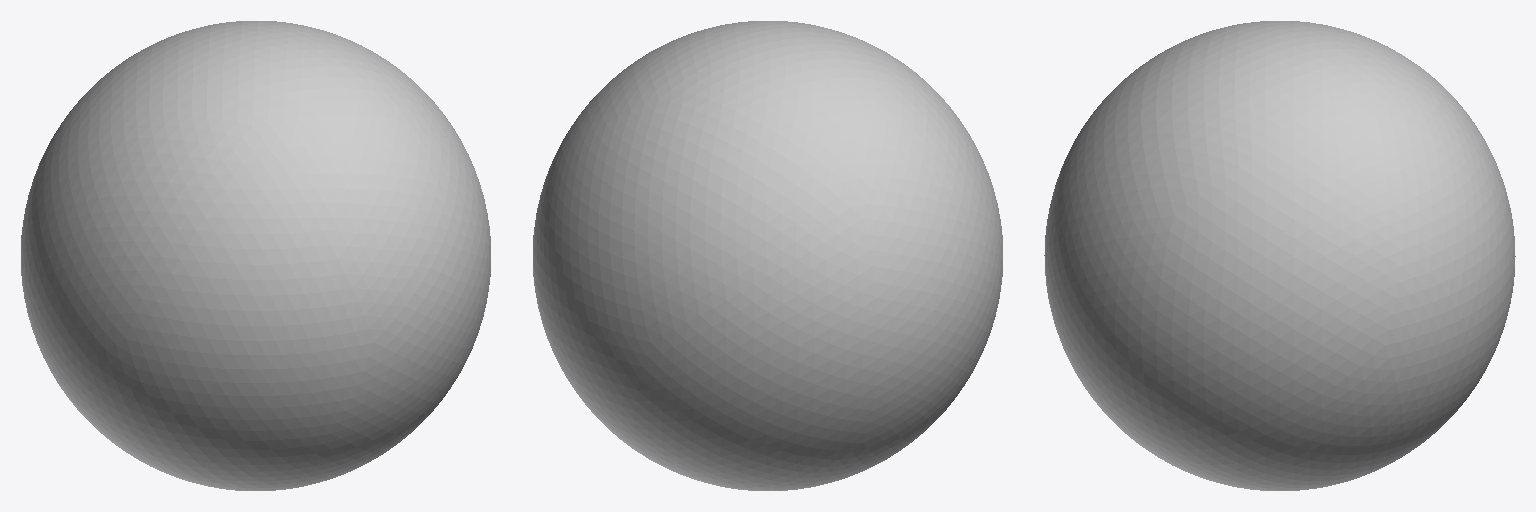
Rendered from bola.obj.
3 views of the same model, side by side, from view 1: azimuth 30°, elevation 25°; view 2: azimuth 150°, elevation 25°; view 3: azimuth 270°, elevation 25° (orthographic).
Visible parts, largest first — view 1: Object.1; view 2: Object.1; view 3: Object.1.
Boxes of the visible parts, <box> form: Object.1: <box>21,21,490,490</box>; Object.1: <box>533,21,1002,490</box>; Object.1: <box>1044,21,1515,490</box>.
Size of the model in its own units: 40 by 40 by 40.